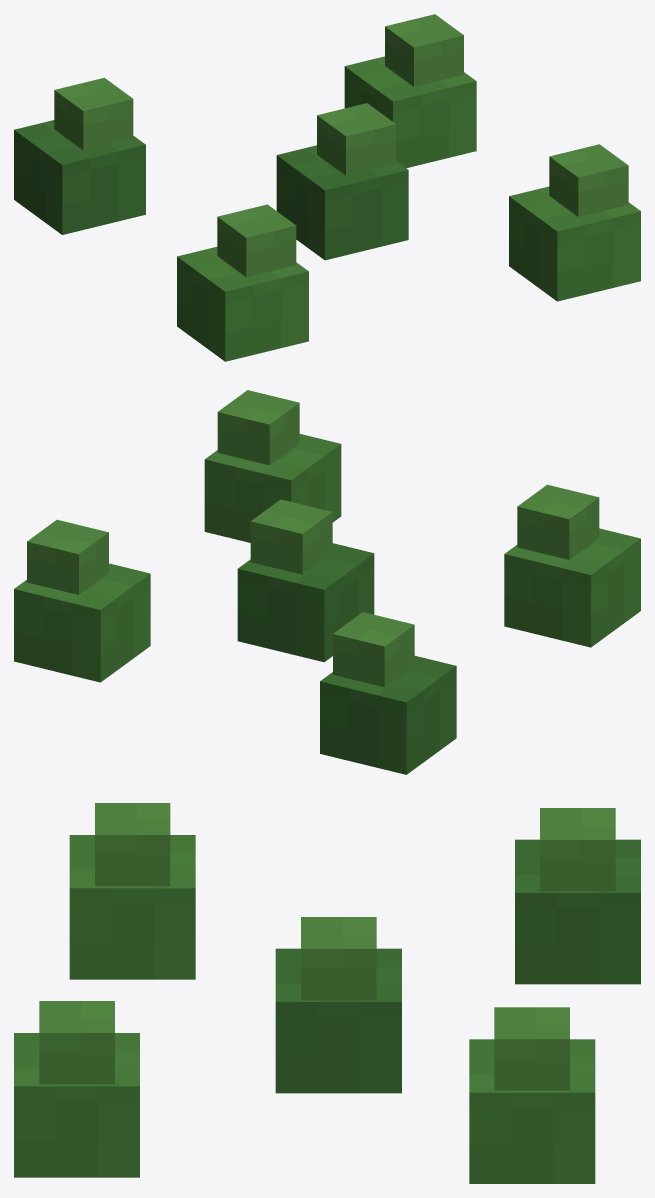
The model's file is crop_pomme_de_terre_1.glb.
3 renders of one model, top to bottom at view 1: azimuth 30°, elevation 25°; view 2: azimuth 150°, elevation 25°; view 3: azimuth 270°, elevation 25°, orthographic. The views are drawn at different scales.
Parts seen in each view (by area): view 1: Crop; view 2: Crop; view 3: Crop.
Part boxes in pixels (x1,y1,x2,y2): Crop: [14, 14, 640, 361]; Crop: [14, 390, 640, 774]; Crop: [14, 803, 640, 1183].
Bounding box in the file's own units: 0.725 × 0.1875 × 0.746.
Materials: 3 (3 with a texture image).
